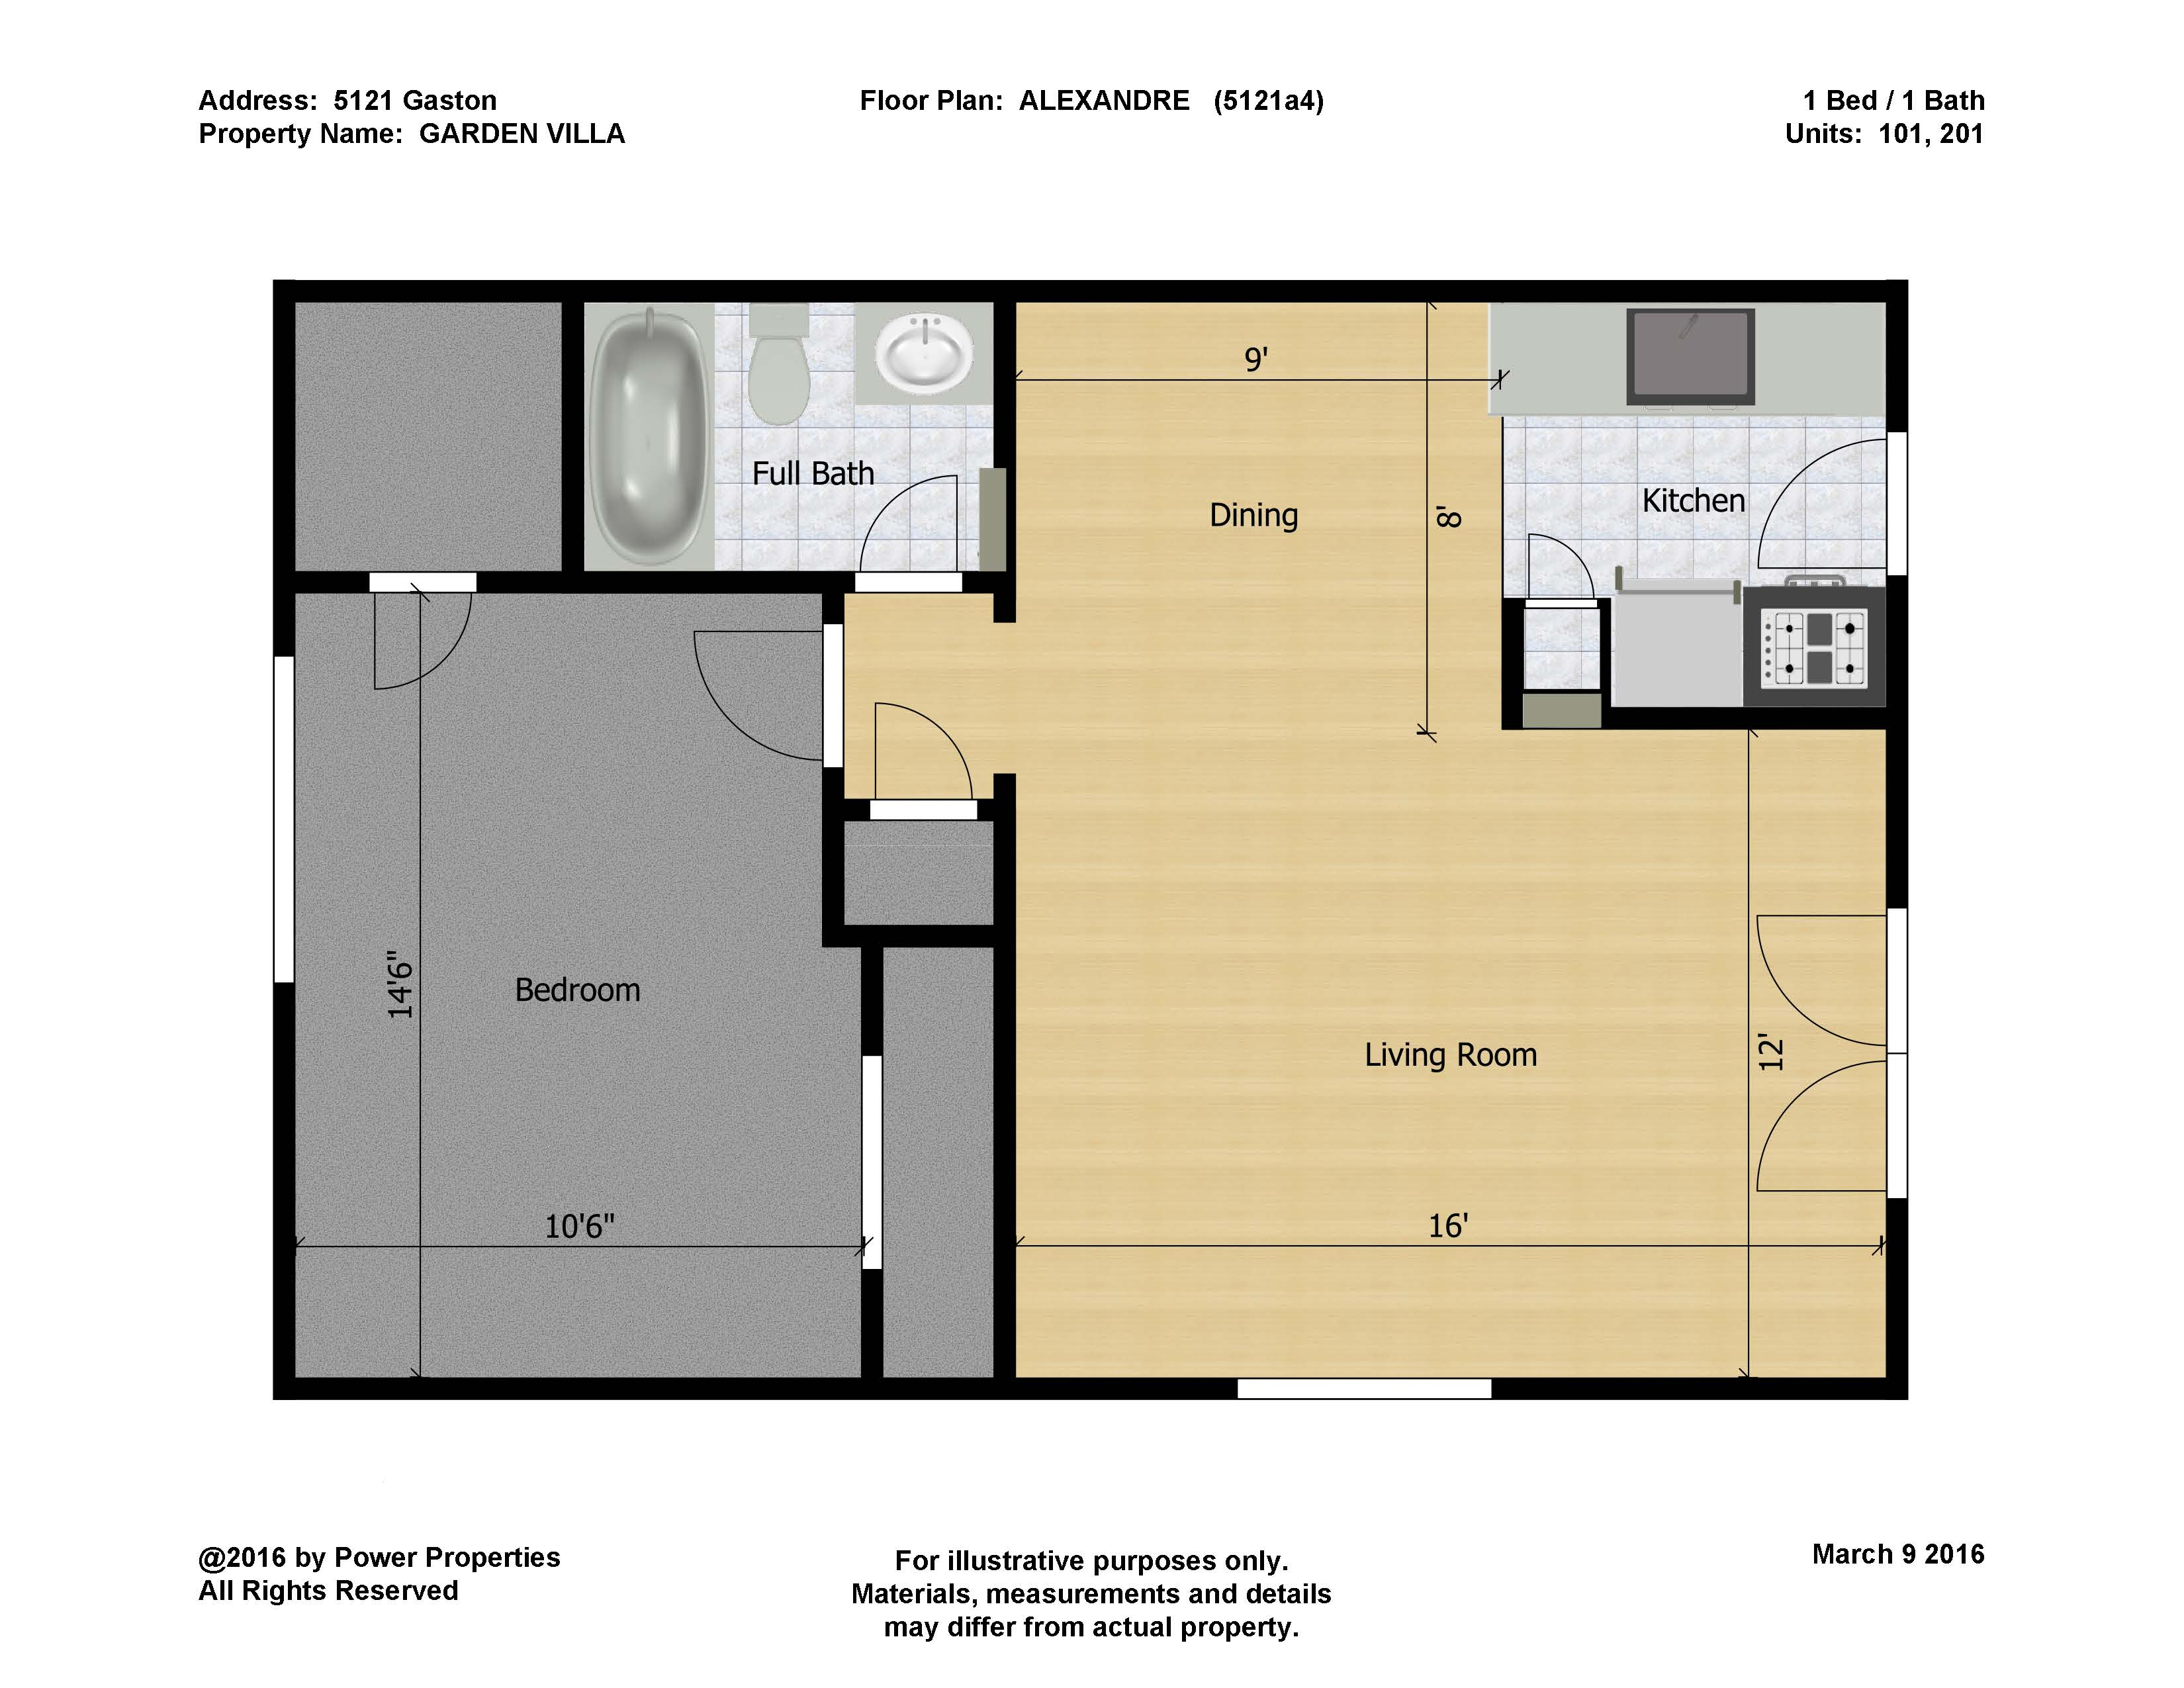door: (1751, 424, 1886, 573), (690, 626, 819, 770), (1755, 1057, 1884, 1199), (1750, 908, 1879, 1050), (865, 693, 971, 793), (853, 473, 961, 566), (370, 598, 472, 693), (1523, 528, 1595, 594)
